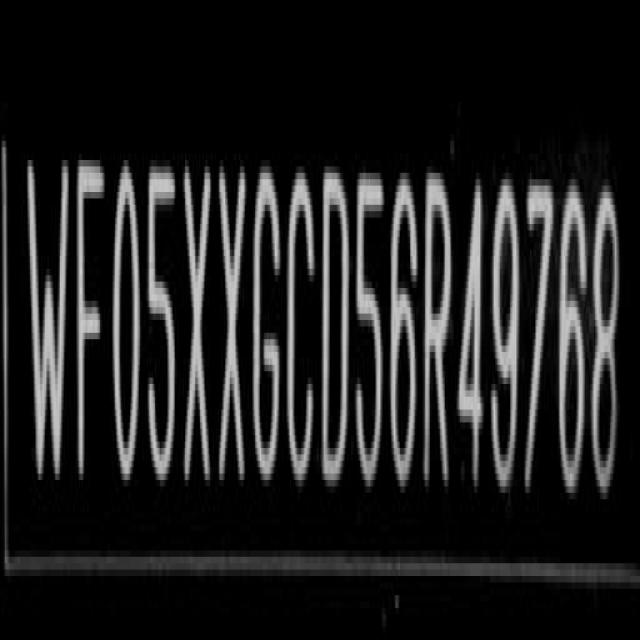0: (112, 158, 144, 500)
4: (455, 171, 484, 500)
5: (146, 159, 180, 496), (354, 172, 386, 496)
6: (558, 184, 590, 504), (390, 169, 421, 498)
7: (524, 173, 555, 501)
8: (594, 185, 624, 504)
9: (490, 178, 524, 500)
C: (288, 166, 320, 494)
D: (320, 165, 351, 495)
F: (74, 149, 104, 491)
G: (252, 147, 286, 502)
R: (423, 170, 452, 490)
W: (25, 152, 73, 484)
X: (182, 153, 214, 497), (215, 163, 248, 494)
